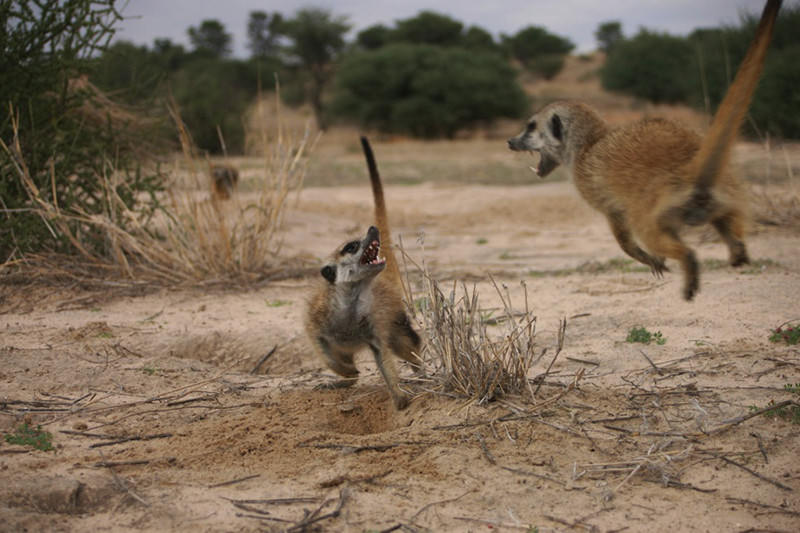meerkat: (466, 53, 785, 296), (301, 185, 460, 426)
